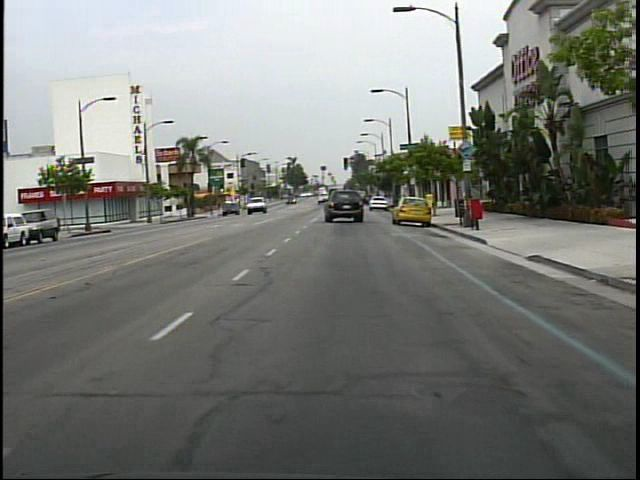person: (461, 183, 483, 217)
